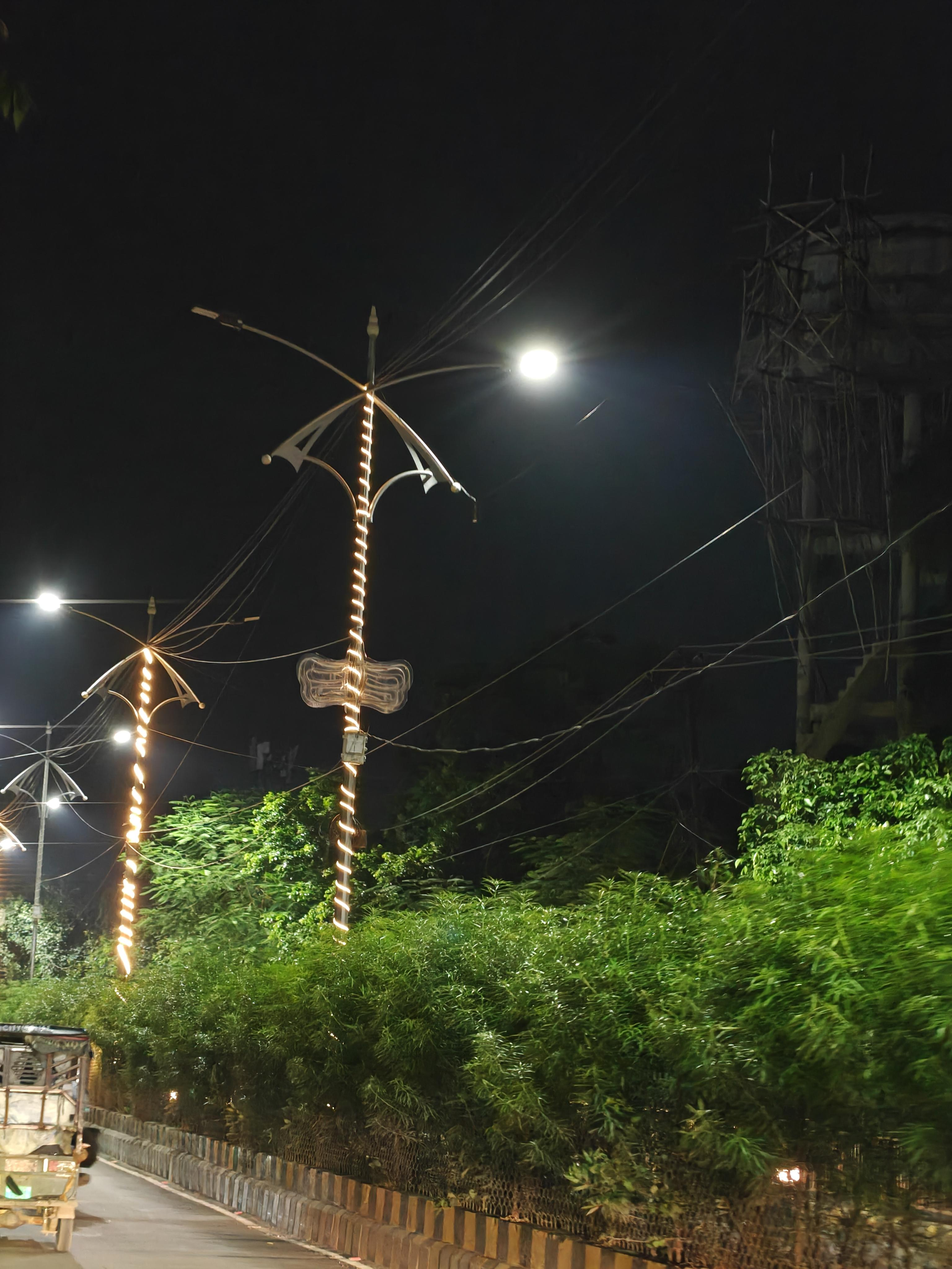streetlight: (190, 299, 357, 392)
